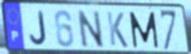6: (54, 9, 75, 49)
7: (159, 9, 179, 52)
J: (29, 10, 48, 47)
K: (106, 10, 130, 49)
M: (128, 10, 160, 49)
N: (75, 9, 105, 50)
